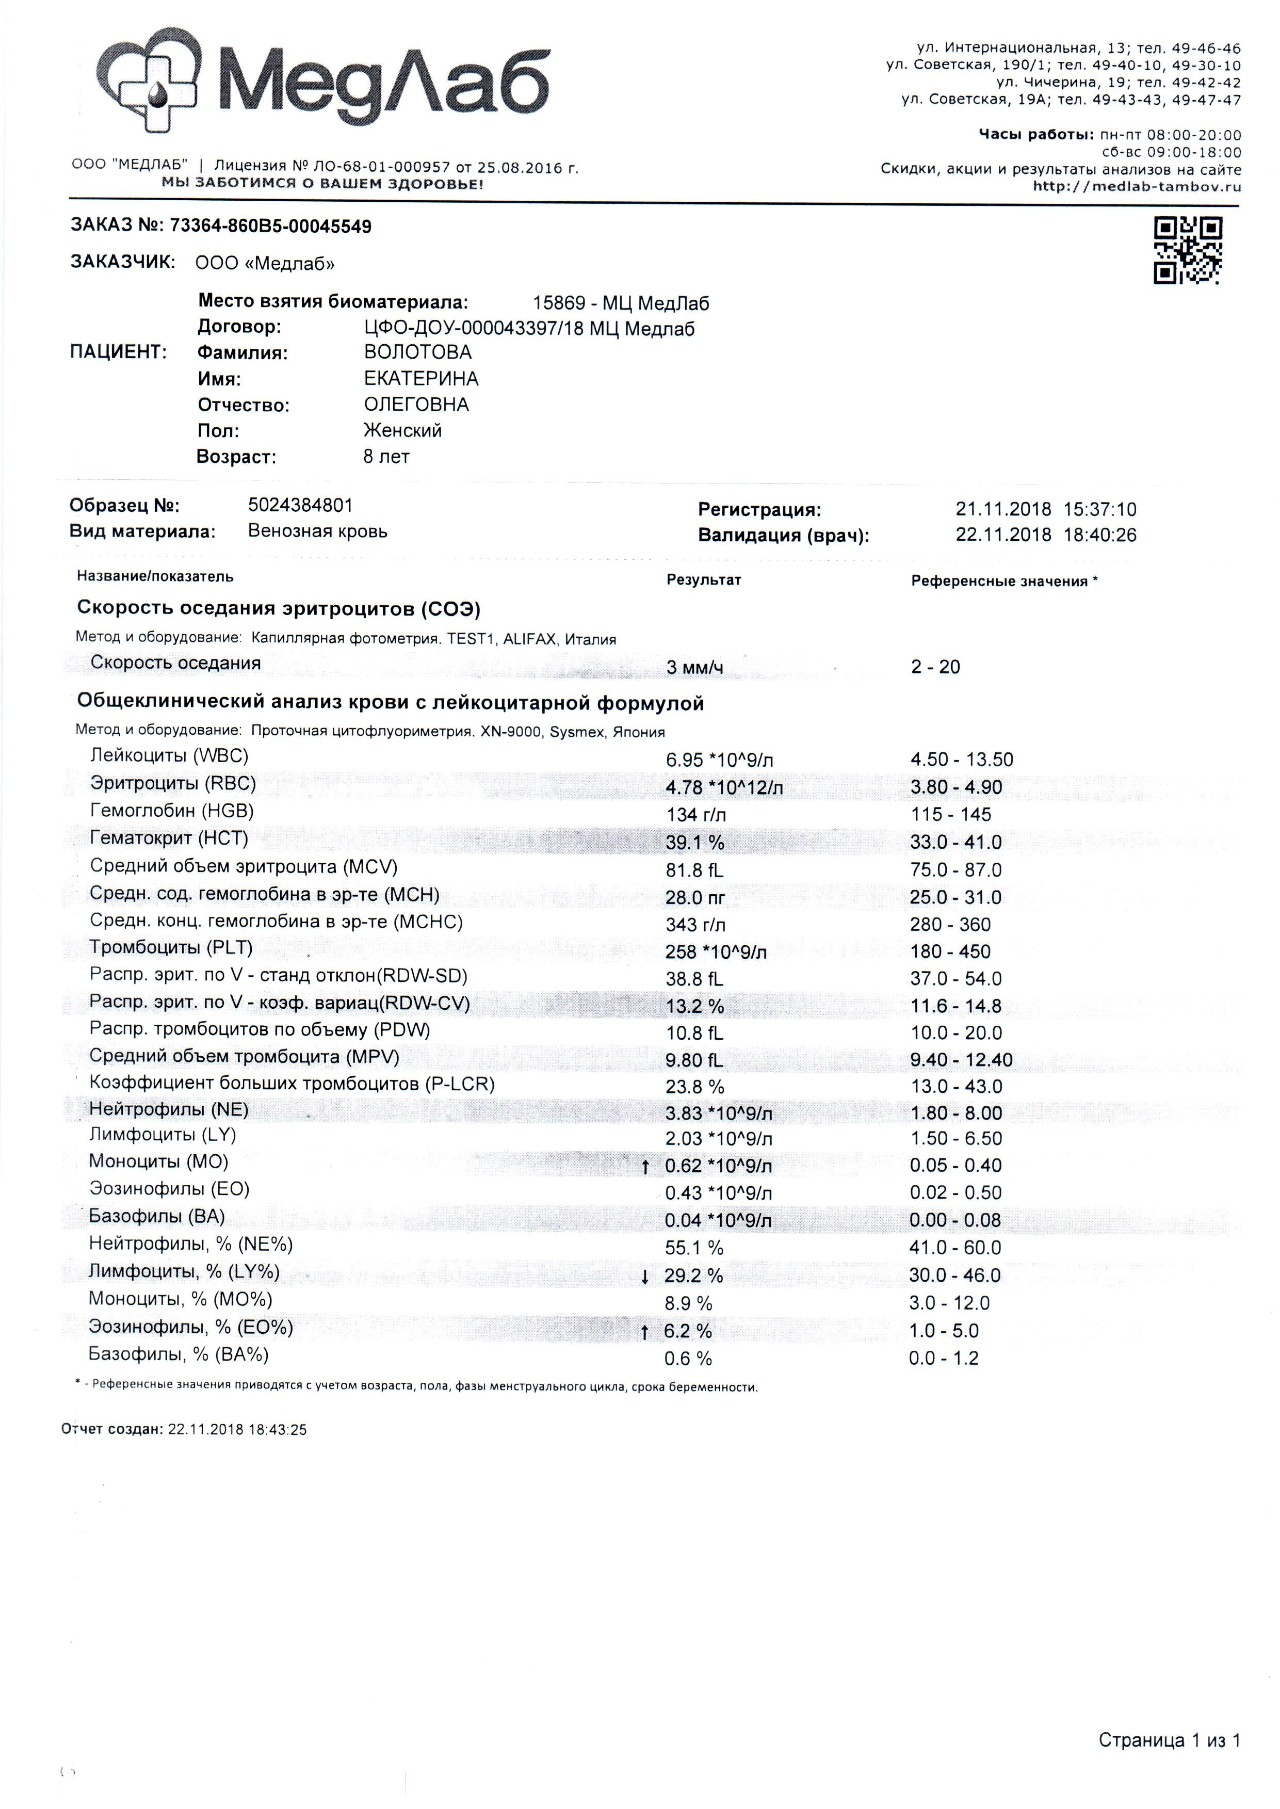column: (89, 745, 495, 1366), (664, 745, 784, 1366), (910, 745, 1014, 1366), (90, 652, 260, 675), (912, 569, 1087, 587), (78, 569, 233, 587), (666, 569, 741, 587), (666, 652, 725, 675), (912, 652, 960, 675)
